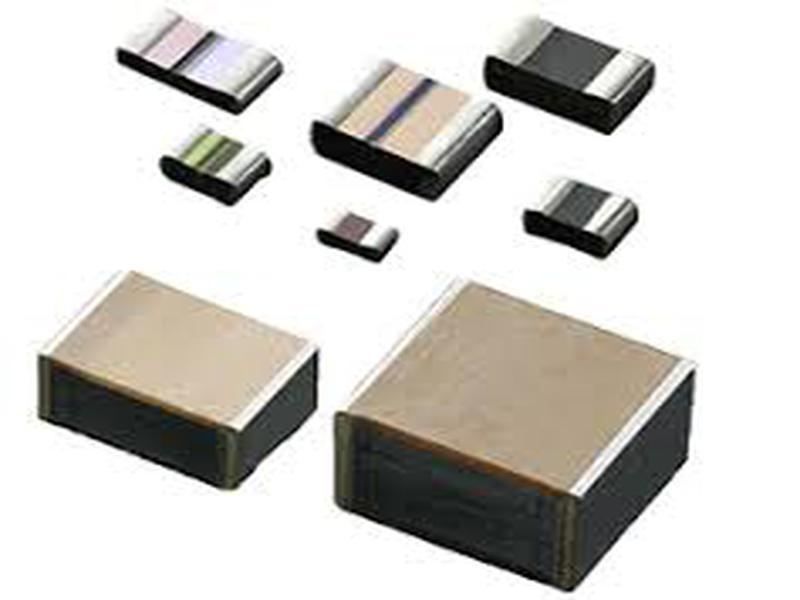SMD capacitor: (339, 270, 703, 593), (37, 264, 329, 494)
